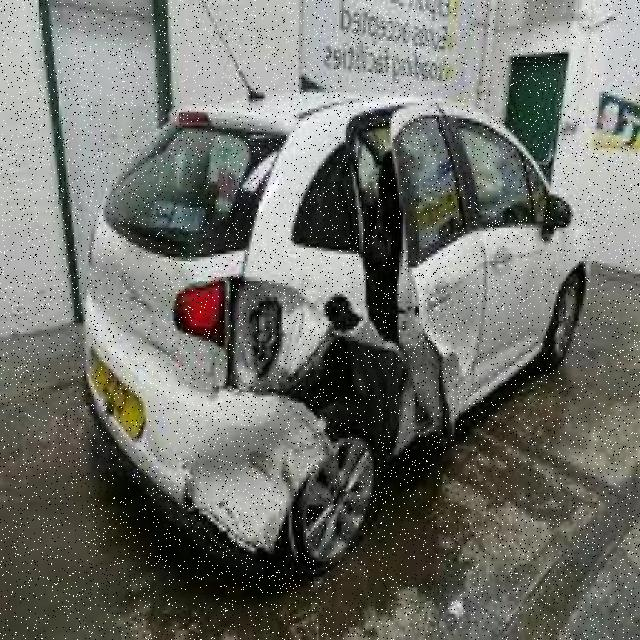damage: (145, 111, 472, 555)
